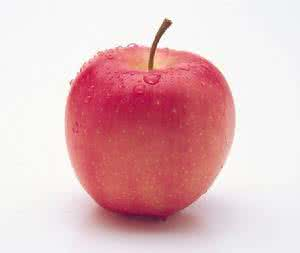apple: (61, 24, 236, 210)
